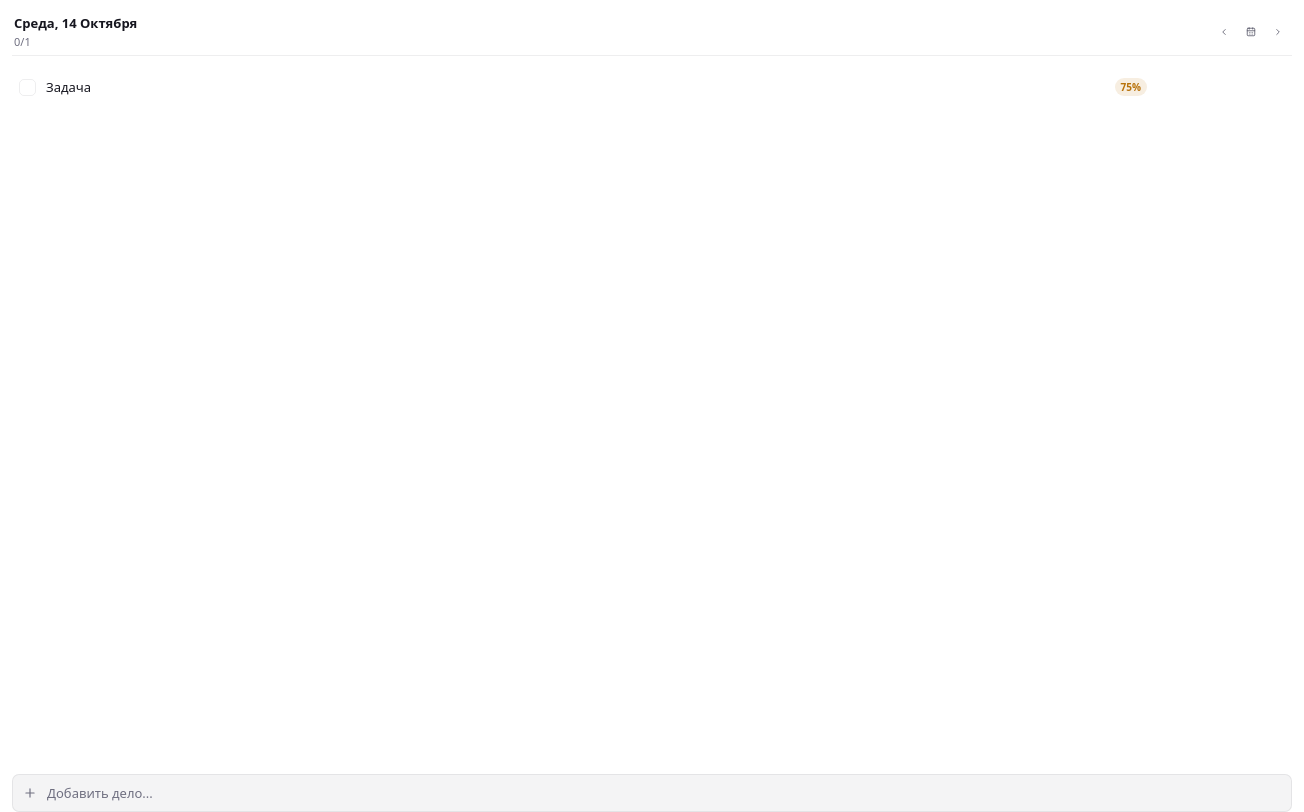
DayView › marks a 75 percent item done when progress is clicked
Click the button "75%".
click(1131, 87)  # box [1114,78,1147,96]
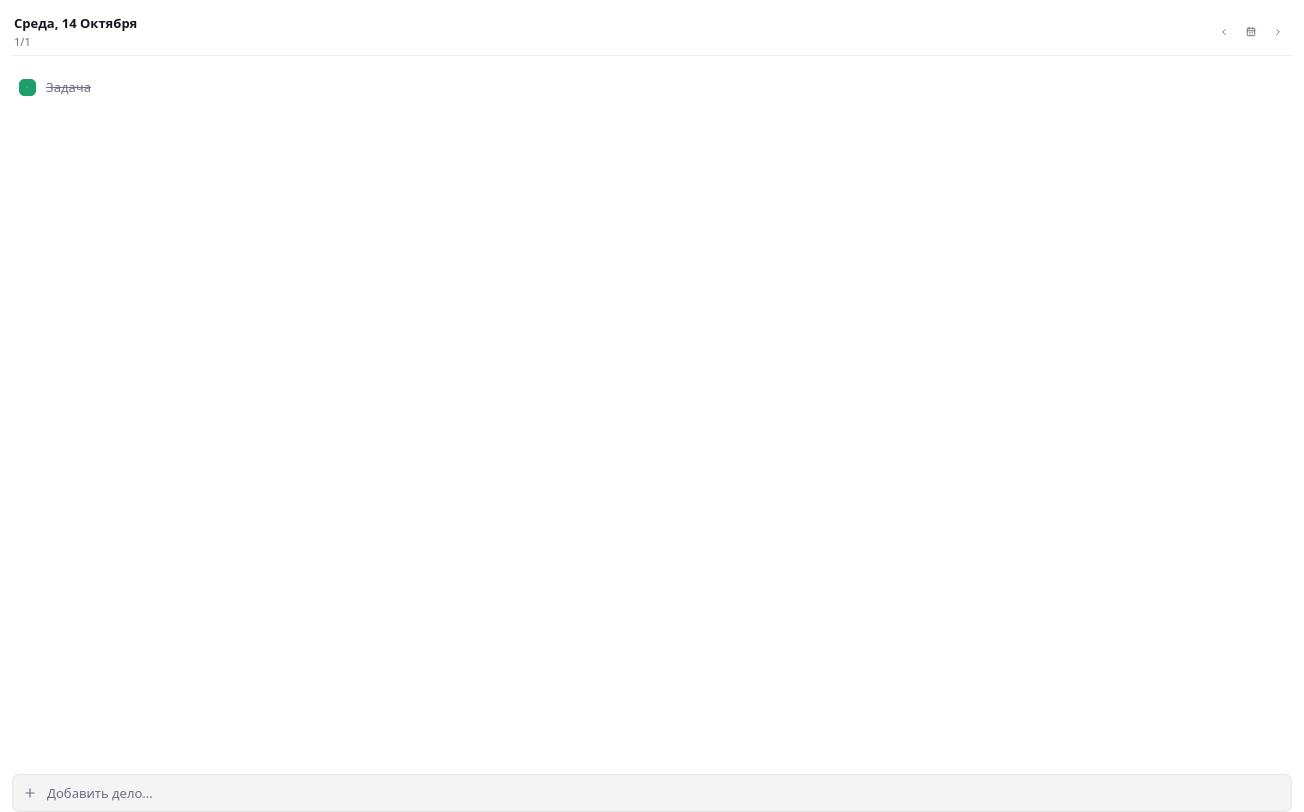
Result: the text "1/1" is shown at [14,34,31,49]
